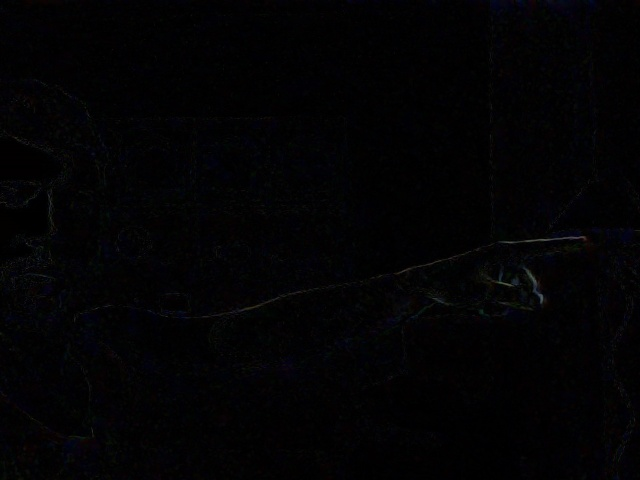hand_po: (410, 227, 605, 329)
